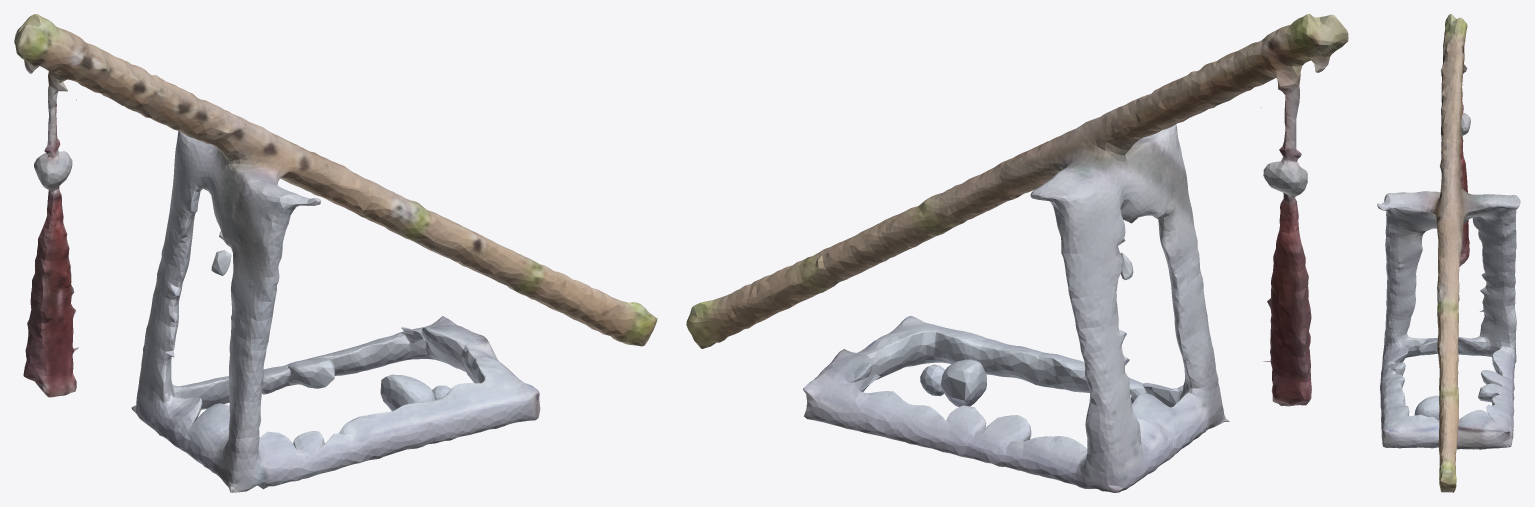
The model's file is bamboo_flute.glb.
3 views of the same model, side by side, from view 1: azimuth 30°, elevation 25°; view 2: azimuth 150°, elevation 25°; view 3: azimuth 270°, elevation 25° (orthographic). The views are drawn at different scales.
Bounding box in the file's own units: 1.13 × 0.8141 × 0.3514.
Materials: 1 (1 with a texture image).
